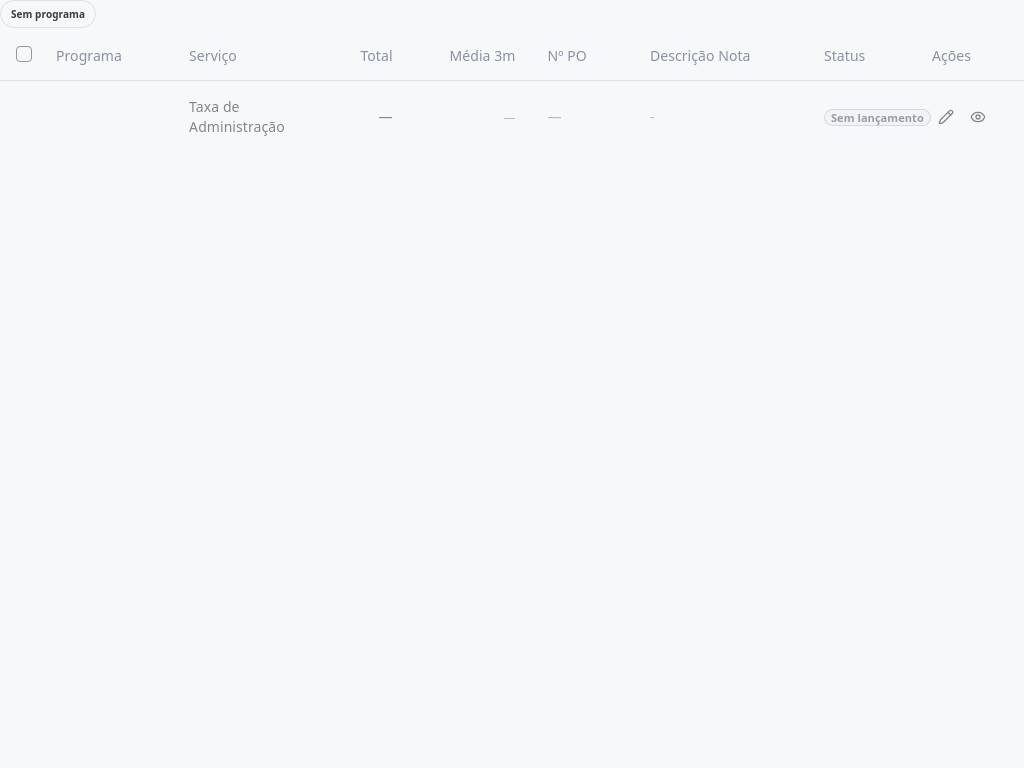
Test: tabela de lançamentos com serviço sem programa › abre o modal de detalhe
Click the button titled "Detalhar" at x=978, y=116, box [964,102,992,130]
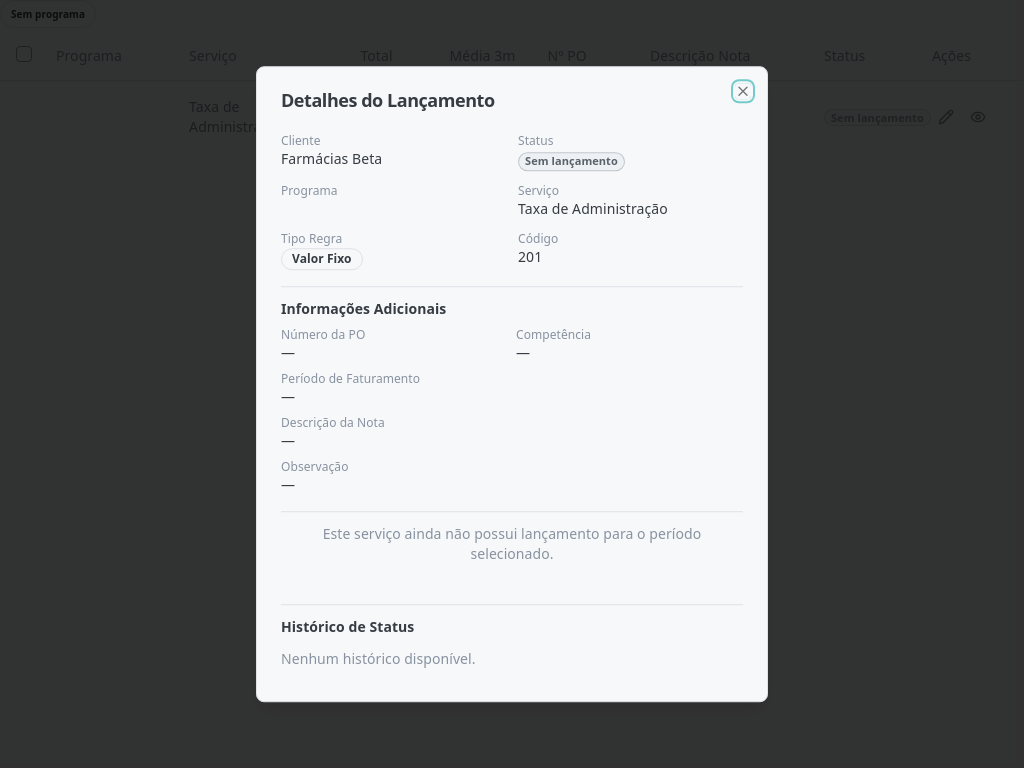
Check: the heading "Detalhes do Lançamento" is shown, box [281,88,495,112]
